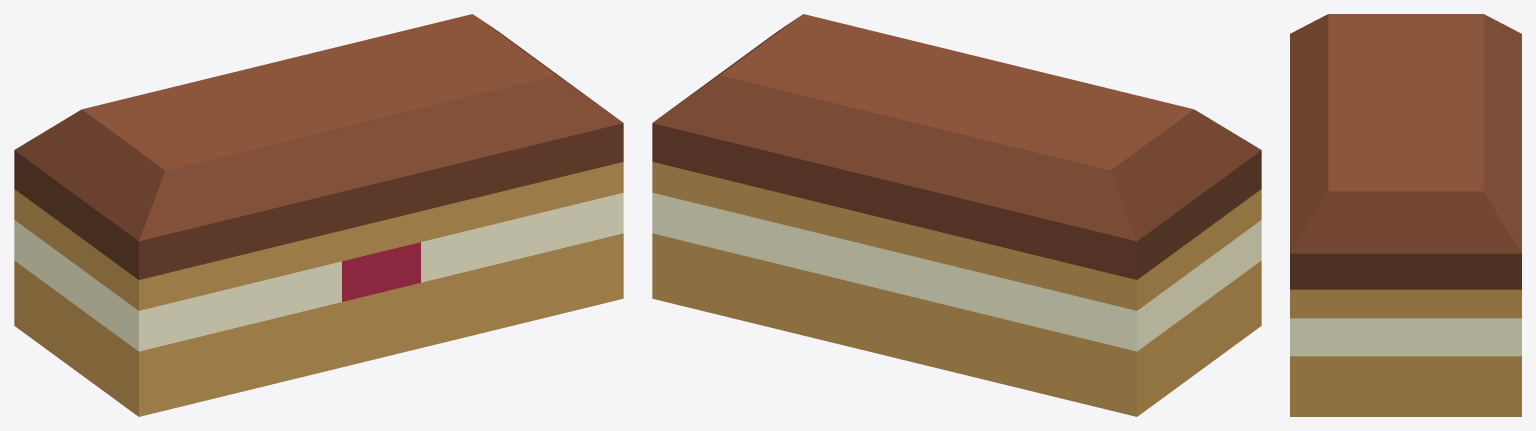
File: CreamRoll2.glb
The picture shows the model from 3 angles, left to right: view 1: azimuth 30°, elevation 25°; view 2: azimuth 150°, elevation 25°; view 3: azimuth 270°, elevation 25°; orthographic projection. The views are drawn at different scales.
Visible parts, largest first — view 1: SI_Food_Bakery_CreamRoll_02; view 2: SI_Food_Bakery_CreamRoll_02; view 3: SI_Food_Bakery_CreamRoll_02.
Part boxes in pixels (<box>): SI_Food_Bakery_CreamRoll_02: <box>14,14,623,416</box>; SI_Food_Bakery_CreamRoll_02: <box>652,14,1261,416</box>; SI_Food_Bakery_CreamRoll_02: <box>1290,14,1521,416</box>.
Bounding box in the file's own units: 0.00563 × 0.00244 × 0.00251.
1 material, 1 textured.
